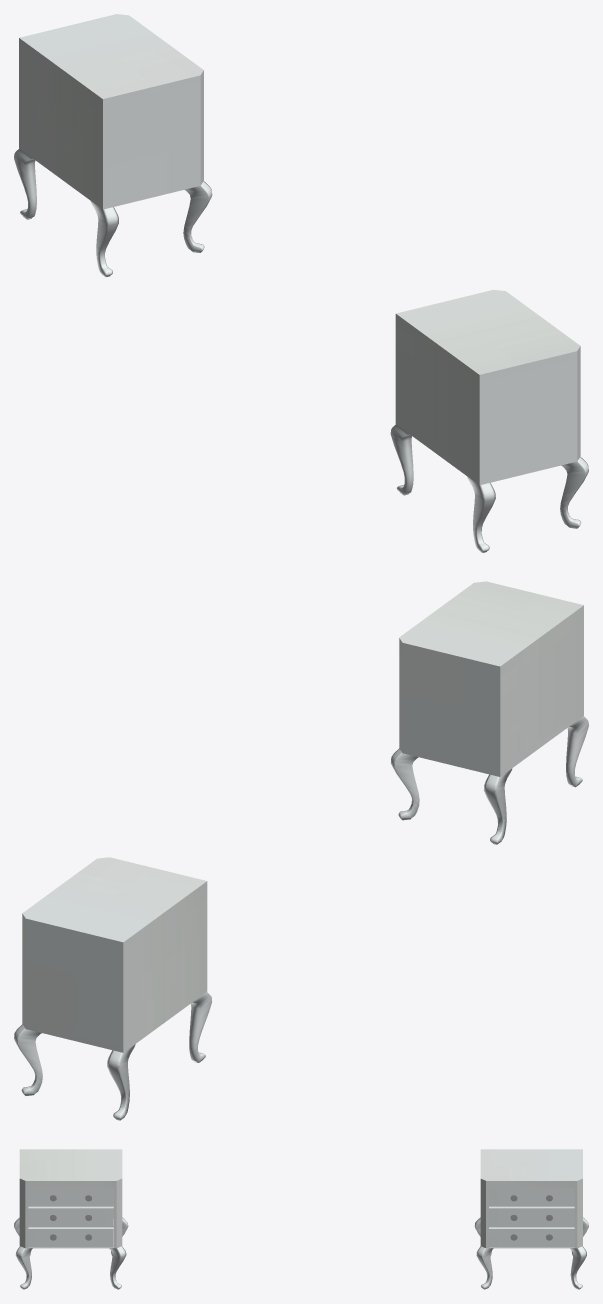
File: ZW_chuangtougui.fbx
The picture shows the model from 3 angles, top to bottom: view 1: azimuth 30°, elevation 25°; view 2: azimuth 150°, elevation 25°; view 3: azimuth 270°, elevation 25°; orthographic projection. The views are drawn at different scales.
Parts seen in each view (by area): view 1: ZW_chuangtougui; view 2: ZW_chuangtougui; view 3: ZW_chuangtougui.
Part boxes in pixels (x1=…): ZW_chuangtougui: x1=14, y1=14, x2=588, y2=552; ZW_chuangtougui: x1=14, y1=581, x2=588, y2=1120; ZW_chuangtougui: x1=14, y1=1149, x2=588, y2=1289.
Size of the model in its own units: 58.54 by 89.3 by 424.
